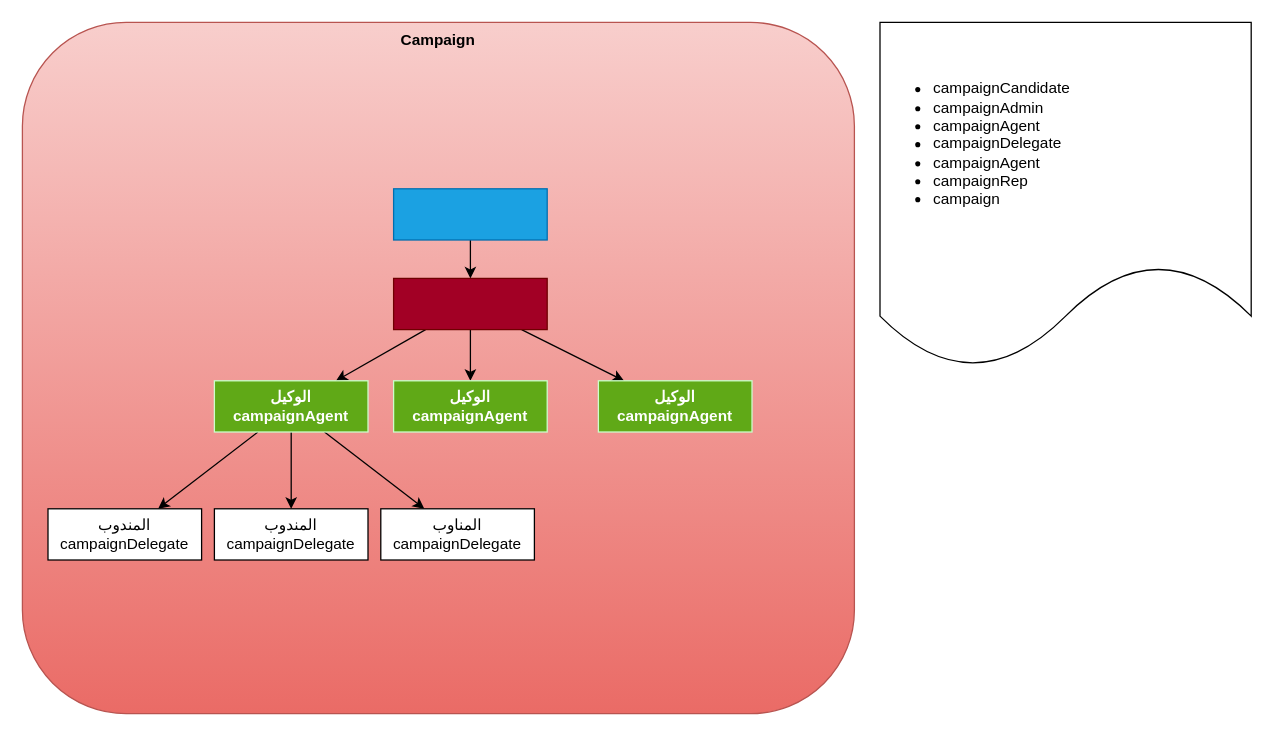
Some shapes in this 1274 by 736 pixel diagram are drawn without their labels. The centre of each missing label's shape, as x and y in pixels:
المرشح Candidate: the point at 469,214
المنسق العام campaignAdmin: the point at 469,303
